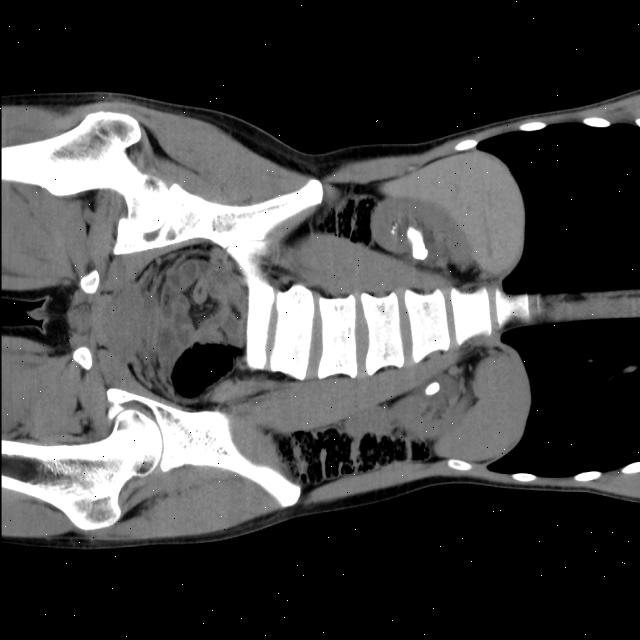kidneystone: (406, 227, 428, 260), (425, 382, 439, 395)
